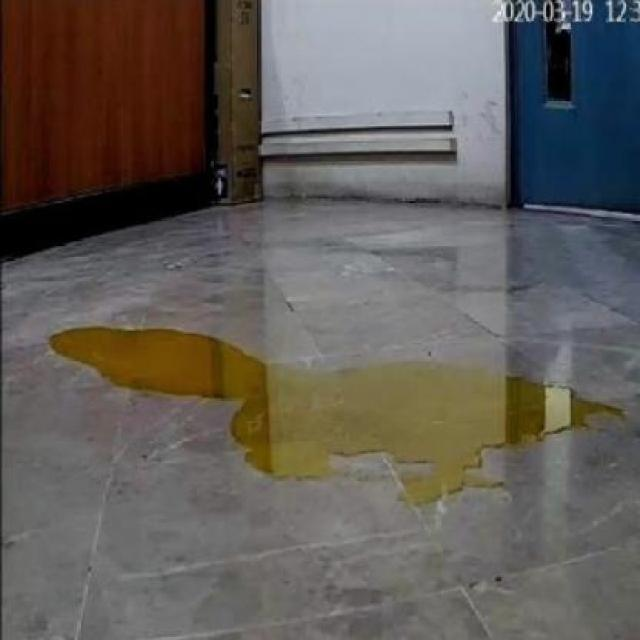spillage: (50, 328, 573, 503)
